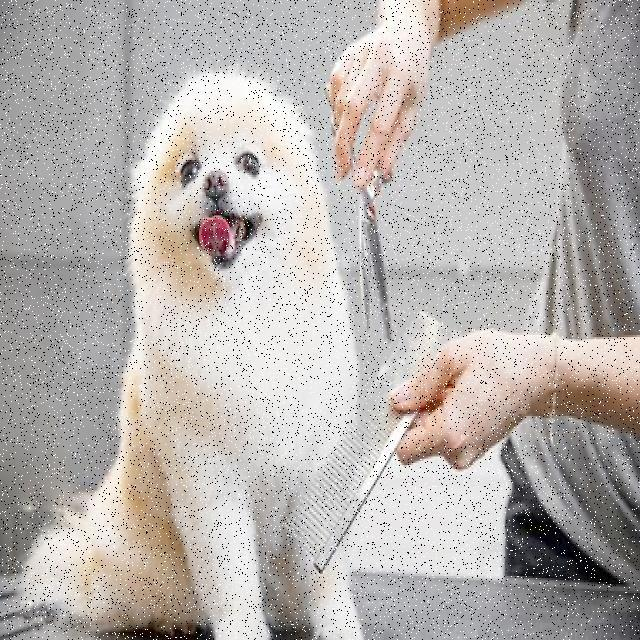scissors: (322, 74, 400, 351)
